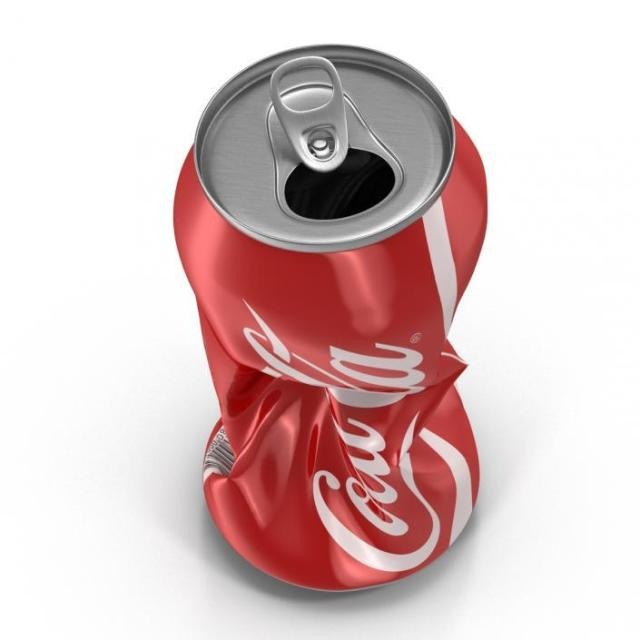can: (172, 41, 491, 595)
pop tab: (274, 56, 350, 172)
